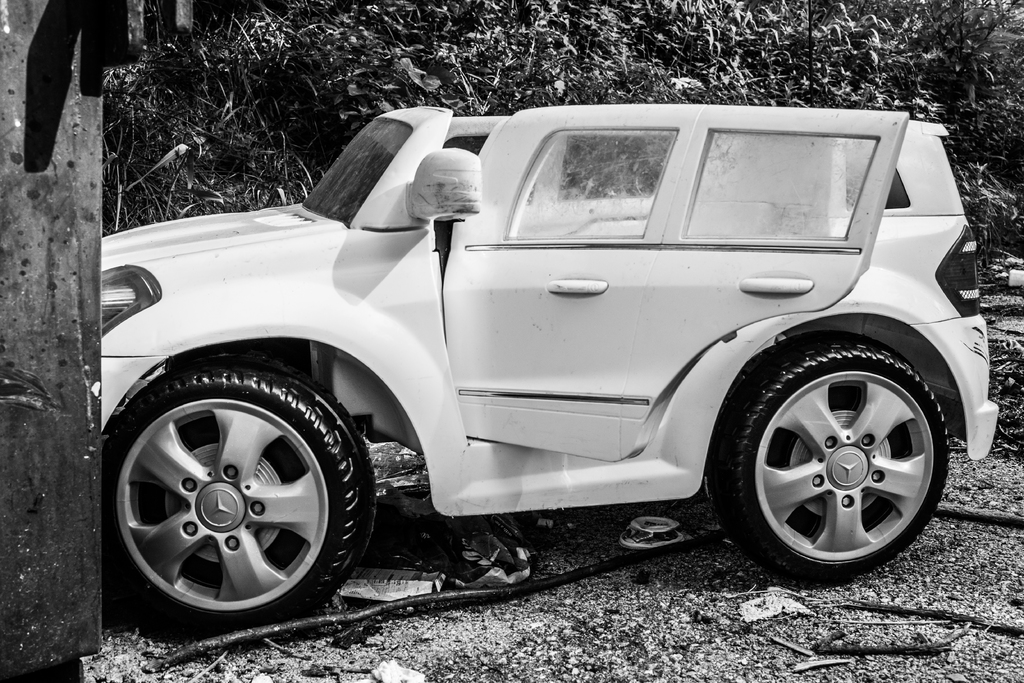Car: (95, 99, 1002, 636)
